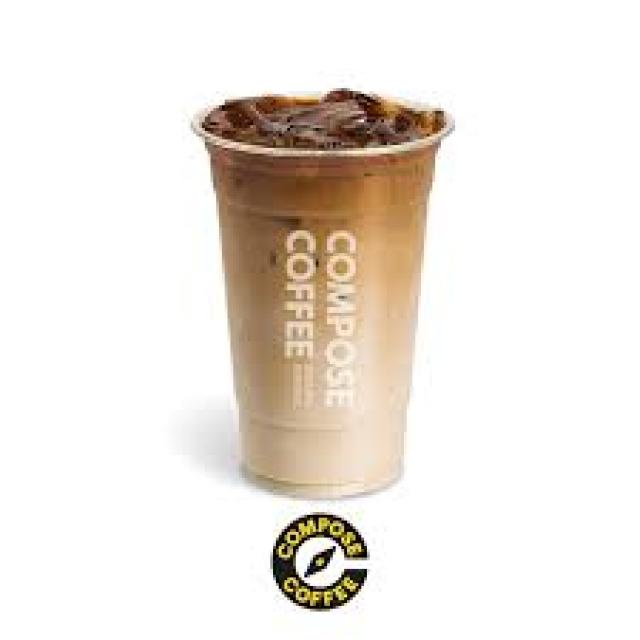bottle: (192, 89, 454, 497)
